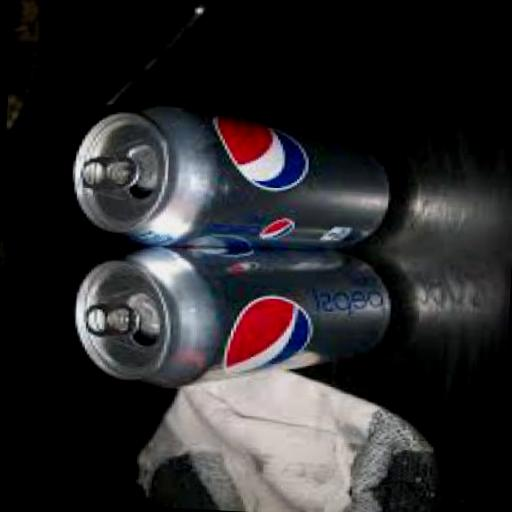metal: (68, 234, 394, 397), (64, 97, 398, 254), (74, 152, 134, 190), (83, 300, 140, 334)
